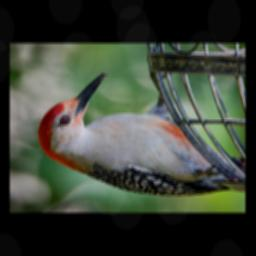Woodpecker: (38, 73, 245, 197)
